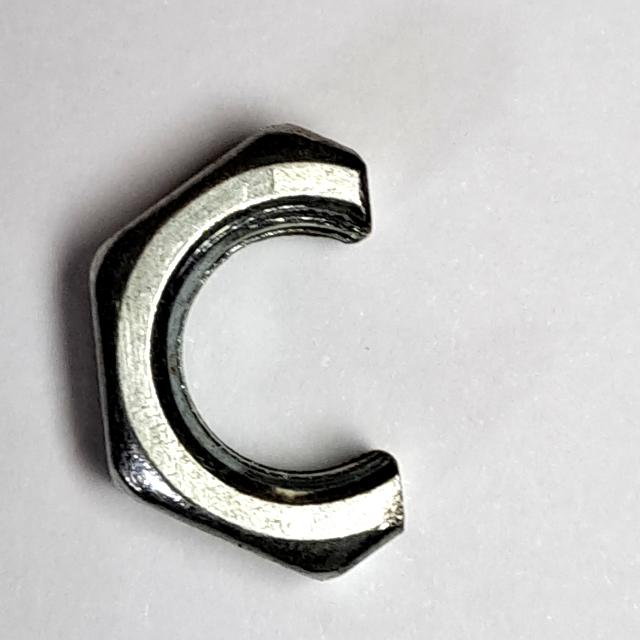Fracture: (79, 111, 429, 595)
